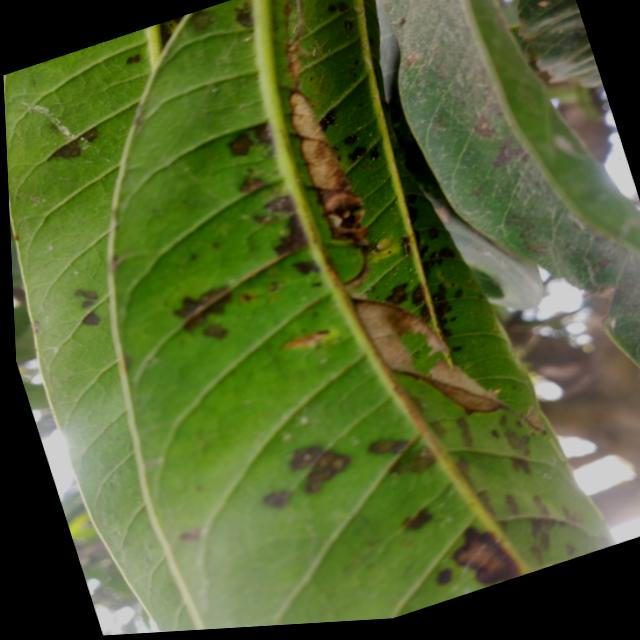Anthracnose: (172, 282, 238, 330), (269, 213, 309, 257)
Bacterial Cancer: (353, 261, 505, 442), (285, 80, 375, 259)
